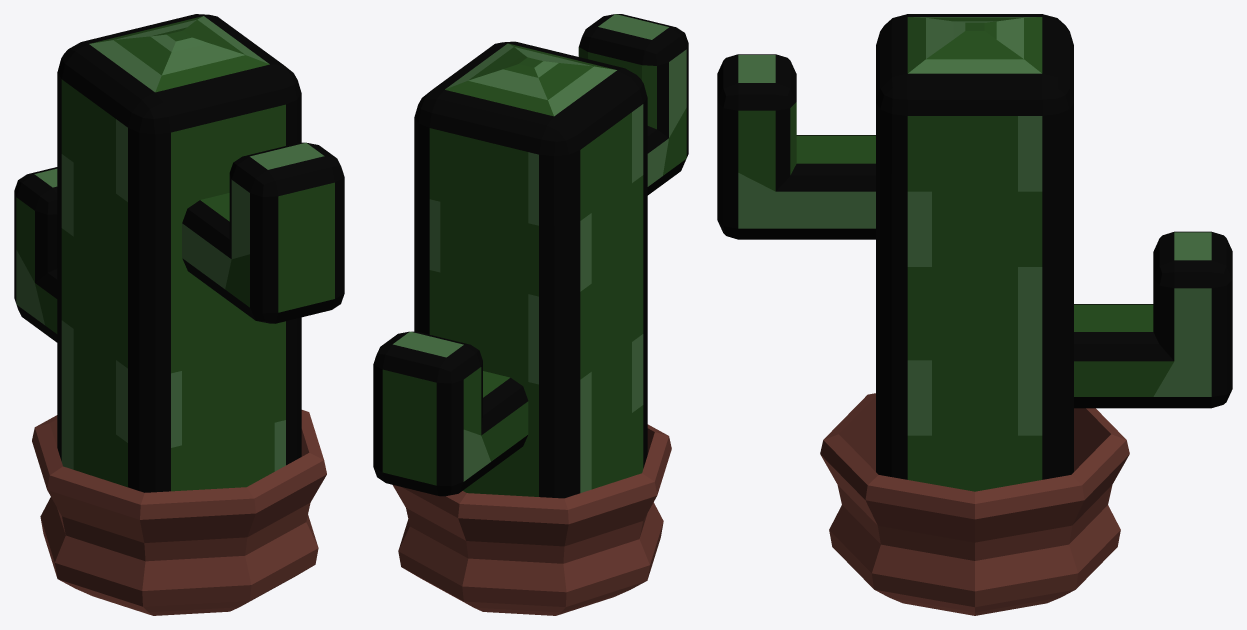
The model's file is caktus.fbx.
The picture shows the model from 3 angles, left to right: view 1: azimuth 30°, elevation 25°; view 2: azimuth 150°, elevation 25°; view 3: azimuth 270°, elevation 25°; orthographic projection. The views are drawn at different scales.
Visible parts, largest first — view 1: Cylinder; view 2: Cylinder; view 3: Cylinder.
Boxes of the visible parts, x1,y1,x2,y2 form: Cylinder: (14, 14, 344, 615); Cylinder: (373, 14, 688, 615); Cylinder: (717, 14, 1232, 615).
Bounding box in the file's own units: 313 × 608 × 520.
